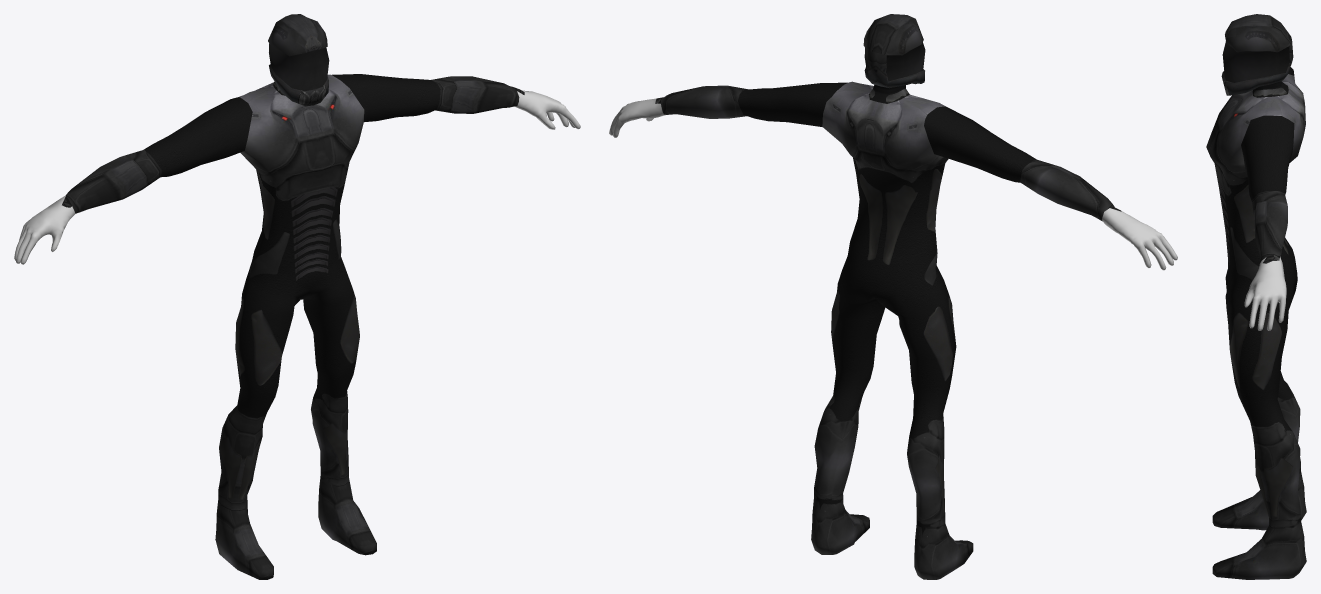
3 renders of one model, left to right at view 1: azimuth 30°, elevation 25°; view 2: azimuth 150°, elevation 25°; view 3: azimuth 270°, elevation 25°, orthographic.
Visible parts, largest first — view 1: Cube.004_Stryker; view 2: Cube.004_Stryker; view 3: Cube.004_Stryker.
Boxes of the visible parts, x1,y1,x2,y2 form: Cube.004_Stryker: [14, 14, 580, 579]; Cube.004_Stryker: [609, 14, 1177, 579]; Cube.004_Stryker: [1206, 14, 1306, 579].
Size of the model in its own units: 7.86 by 7.13 by 1.22.
